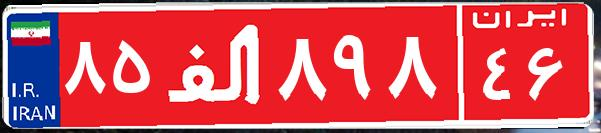4: (475, 38, 525, 113)
5: (110, 28, 158, 105)
6: (525, 38, 570, 115)
8: (385, 28, 445, 110), (273, 28, 330, 110), (57, 26, 110, 107)
9: (330, 28, 385, 110)
الف: (158, 15, 273, 115)
